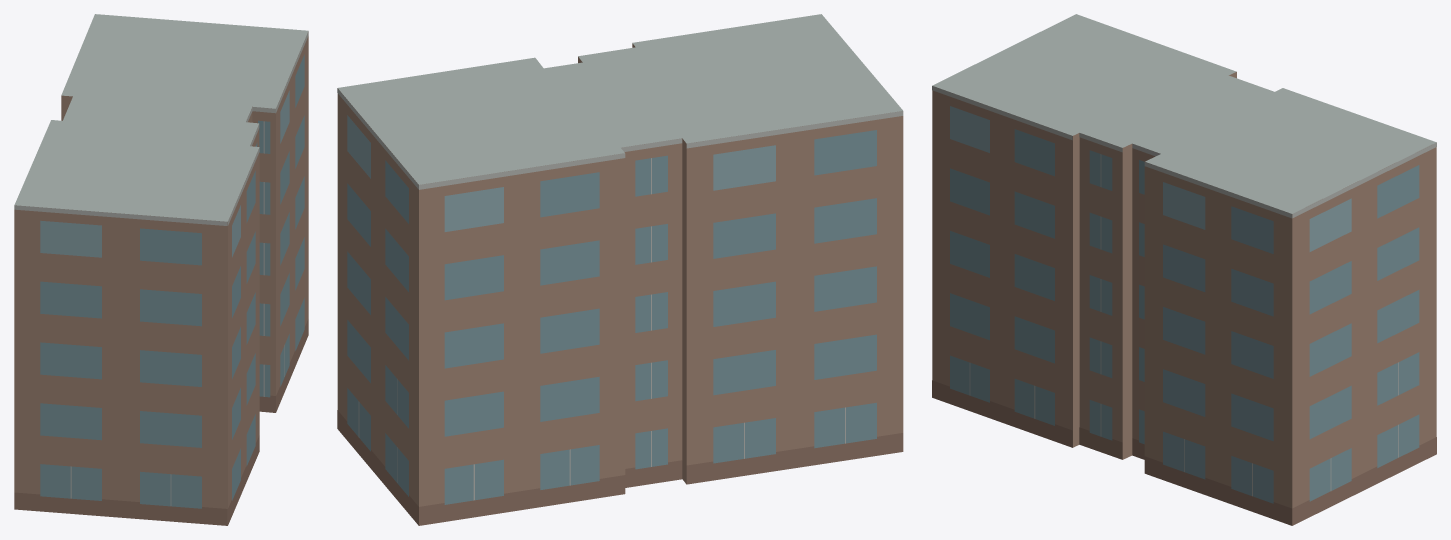
Rendered from survey-upis-32676862.glb.
The picture shows the model from 3 angles, left to right: view 1: azimuth 30°, elevation 25°; view 2: azimuth 150°, elevation 25°; view 3: azimuth 270°, elevation 25°; orthographic projection. The views are drawn at different scales.
Visible parts, largest first — view 1: survey-upis-32676862.tmp; view 2: survey-upis-32676862.tmp; view 3: survey-upis-32676862.tmp.
Part boxes in pixels (<box>): survey-upis-32676862.tmp: <box>14,14,308,525</box>; survey-upis-32676862.tmp: <box>337,14,903,525</box>; survey-upis-32676862.tmp: <box>932,14,1436,525</box>.
Bounding box in the file's own units: 23.1 × 16.8 × 24.64.
